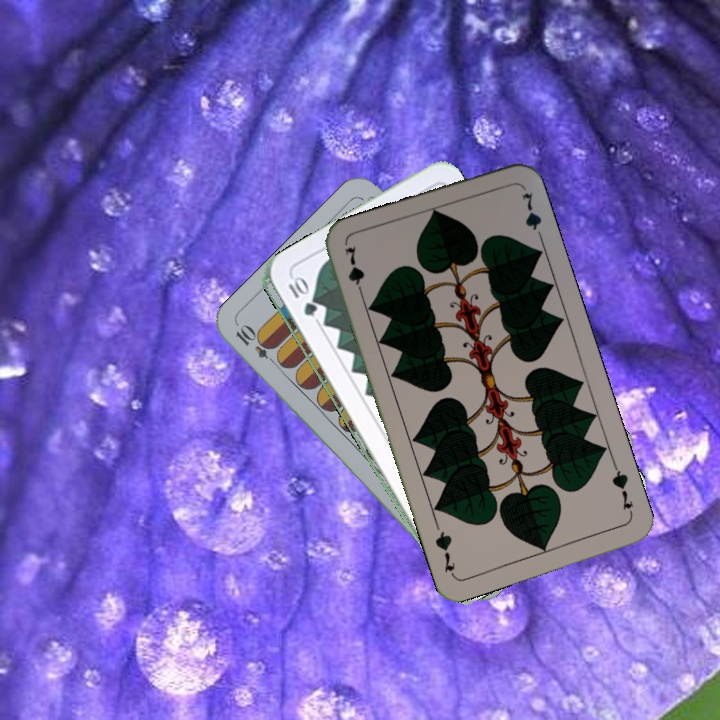E10: (231, 321, 282, 369)
G10: (284, 273, 318, 319)
G7: (608, 461, 637, 518), (341, 242, 367, 301)
